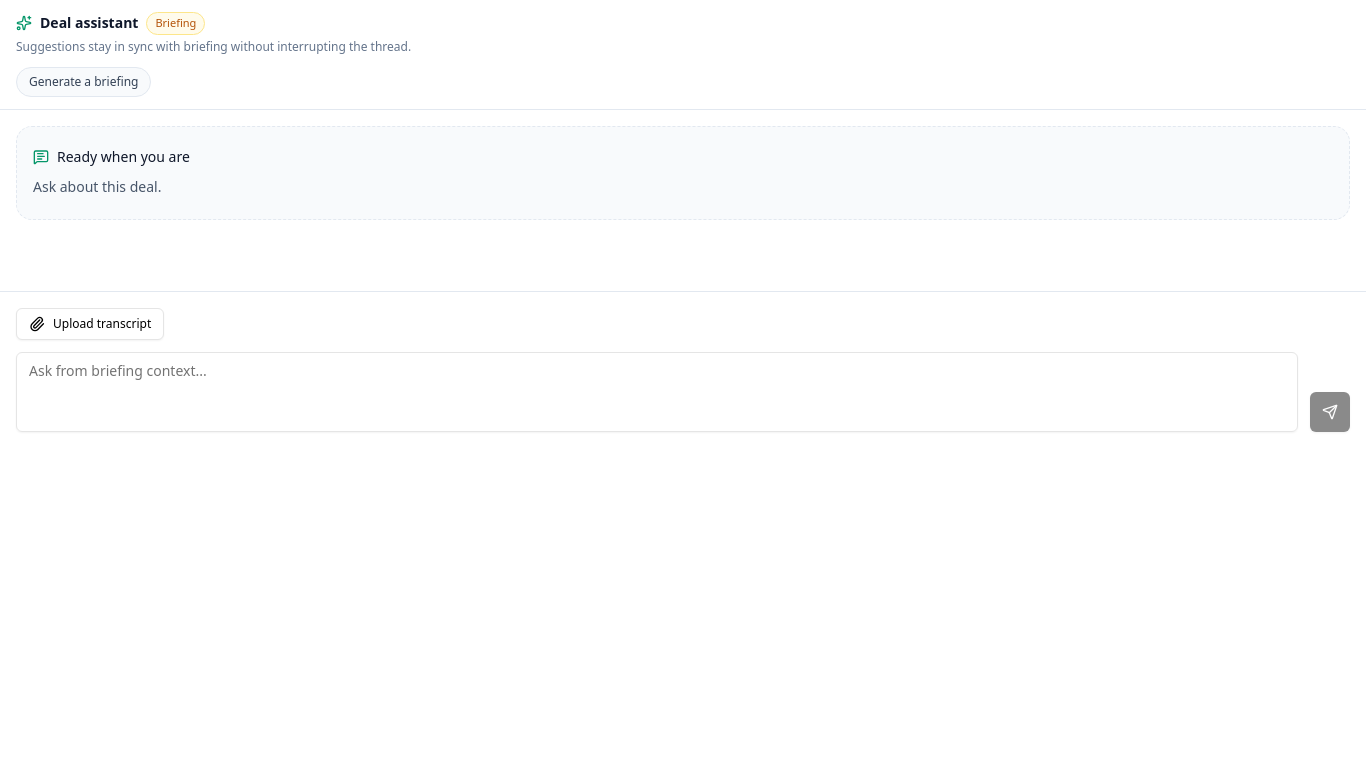
it: DealChatThread › parses streamed meta and renders suggestions, confirmation chips, and match cards inline
Step 1. Type "What changed?" into the text box named "chat message input" → (657, 392), box [16,352,1298,432]
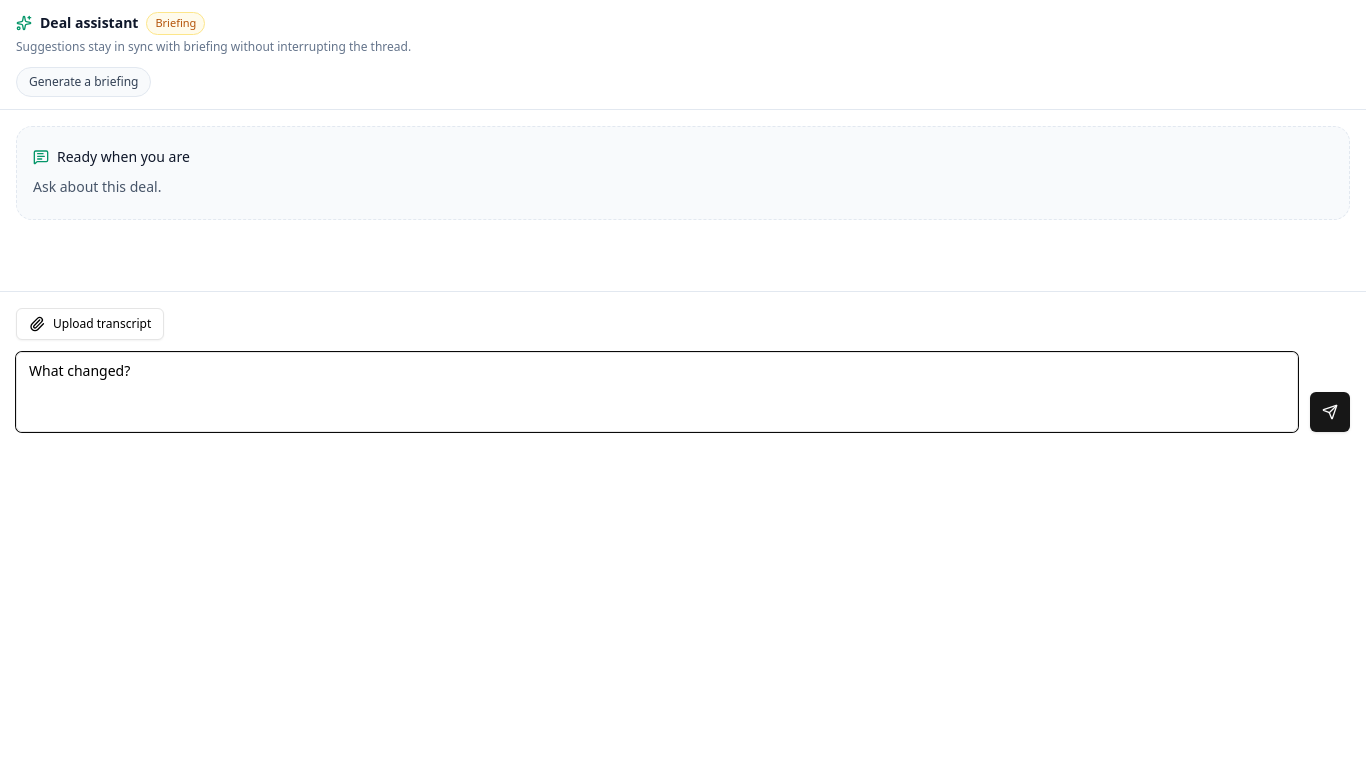
Step 2. Click the button named "send message" → (1330, 412), box [1310,392,1350,432]
(page scrolled)
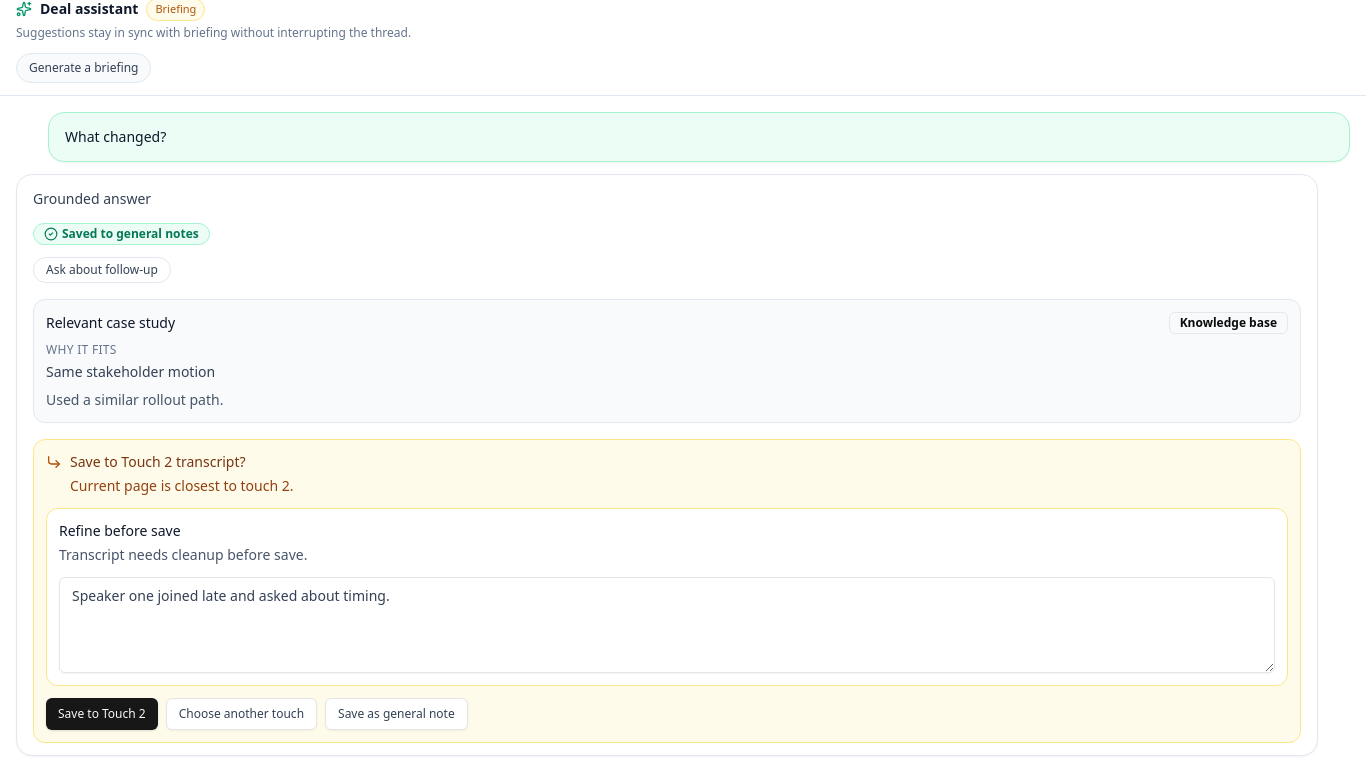
Result: the text "Grounded answer" is shown at [33,188,151,208]
Result: the button "Ask about follow-up" is shown at [33,256,171,282]
Result: the text "Saved to general notes" is shown at [33,222,210,244]
